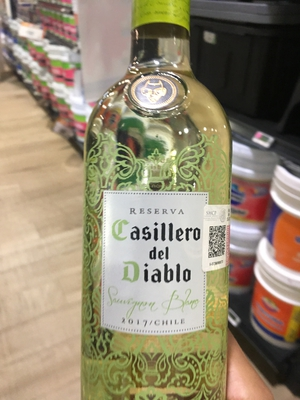casillero del diablo sauvignon blanc: (74, 29, 235, 394)
